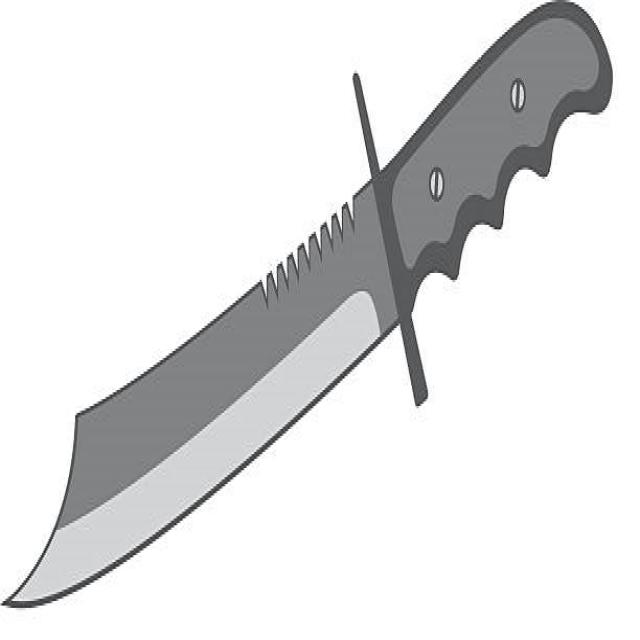knife: (1, 1, 618, 623)
